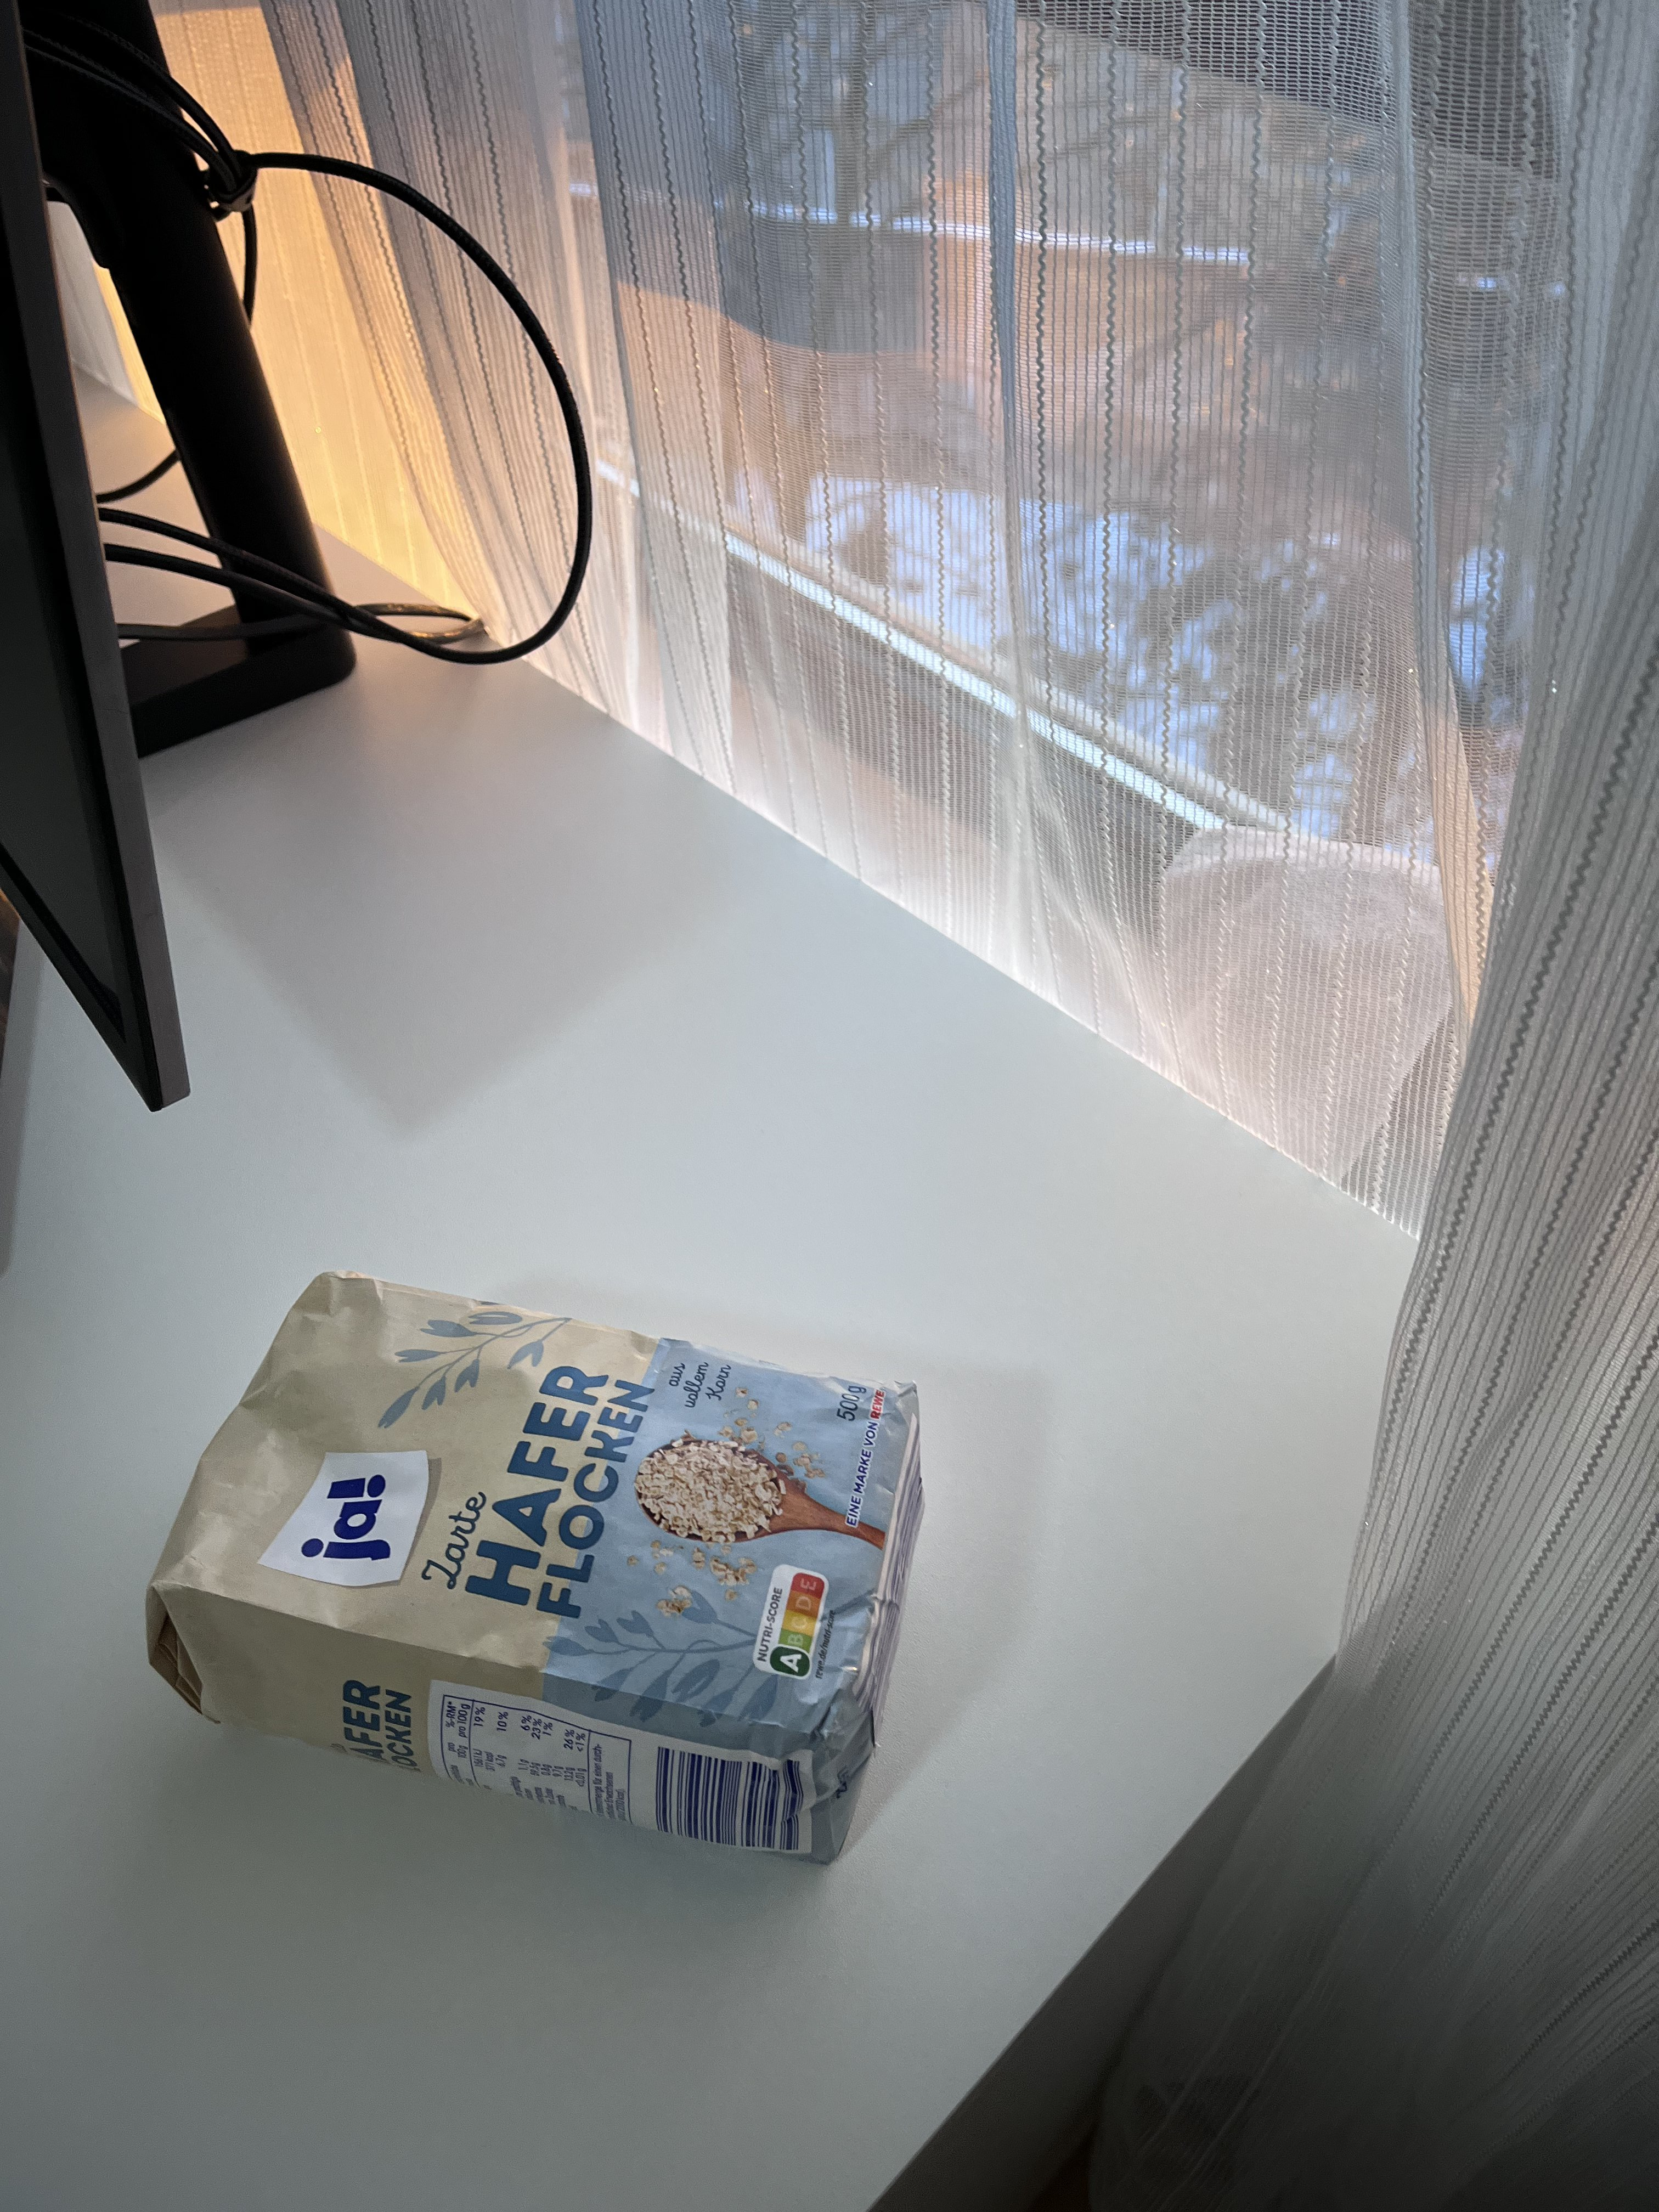haferflocken_ja: (145, 1268, 925, 1871)
